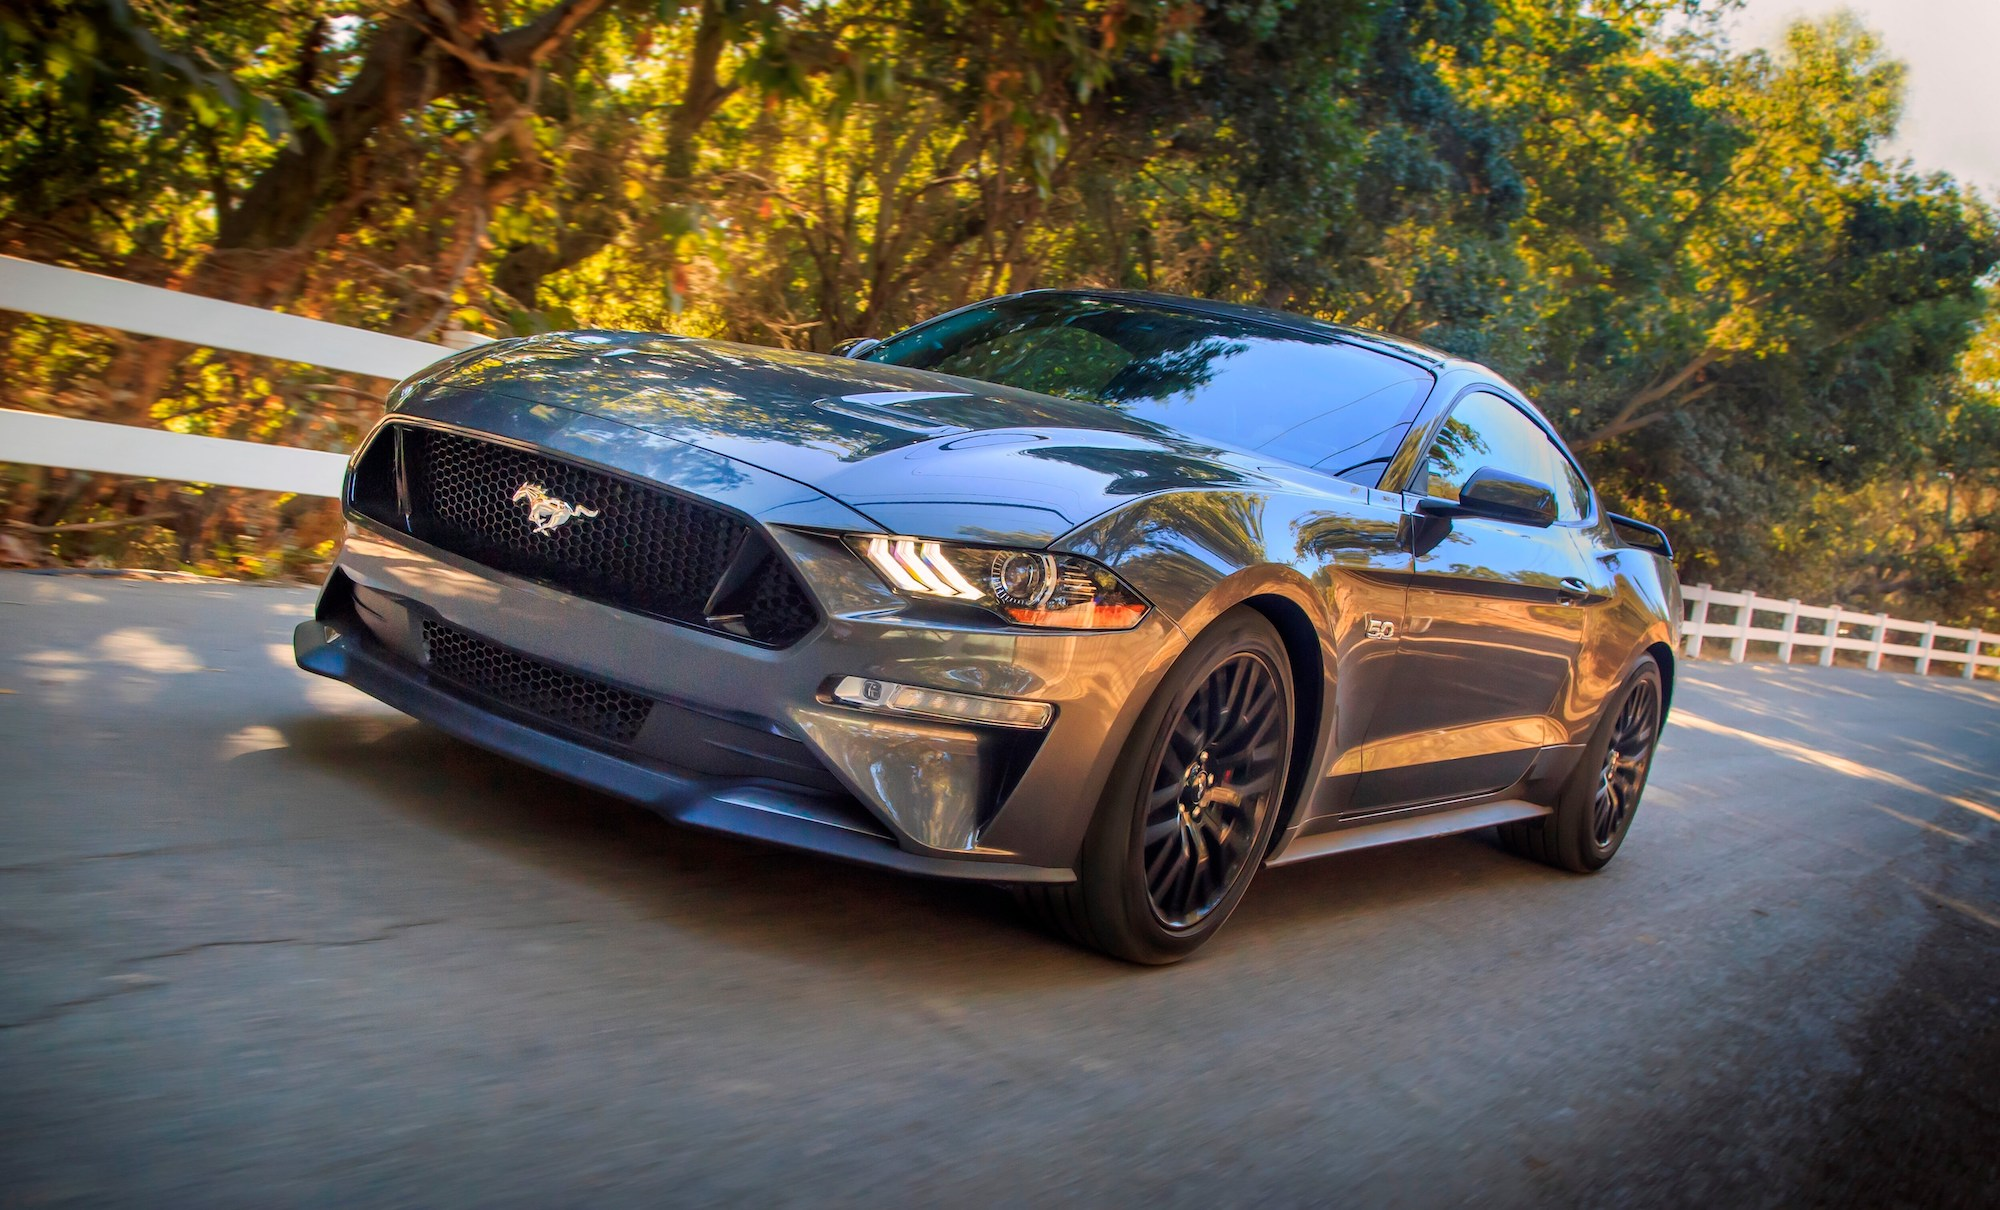headlight: (811, 511, 1089, 626)
wheel: (1090, 601, 1303, 953), (1511, 641, 1661, 874)
